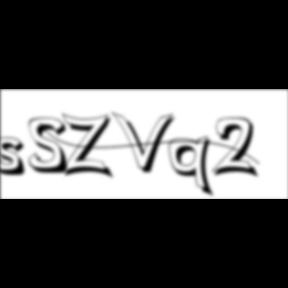2: (213, 117, 263, 181)
S: (29, 117, 75, 176)
V: (112, 110, 180, 176)
Z: (62, 112, 118, 181)
q: (168, 135, 217, 200)
s: (1, 137, 34, 179)
